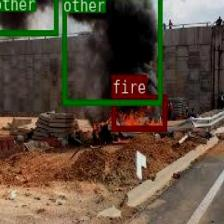fire: (111, 94, 165, 130)
